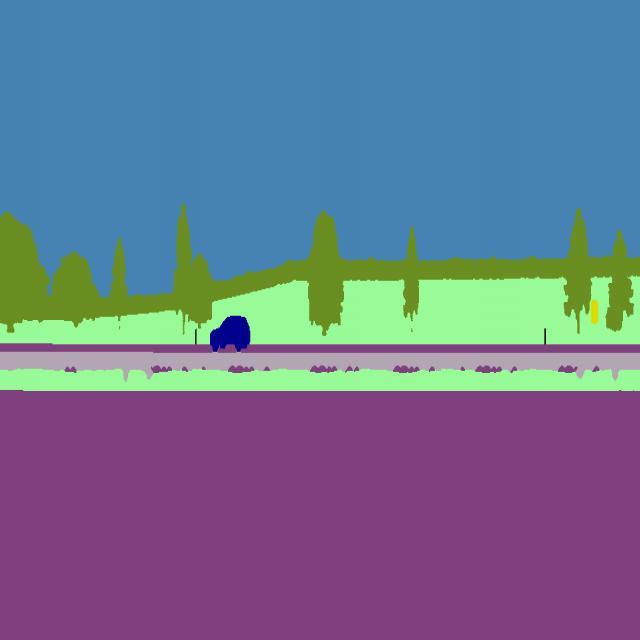safe: (201, 310, 256, 355)
